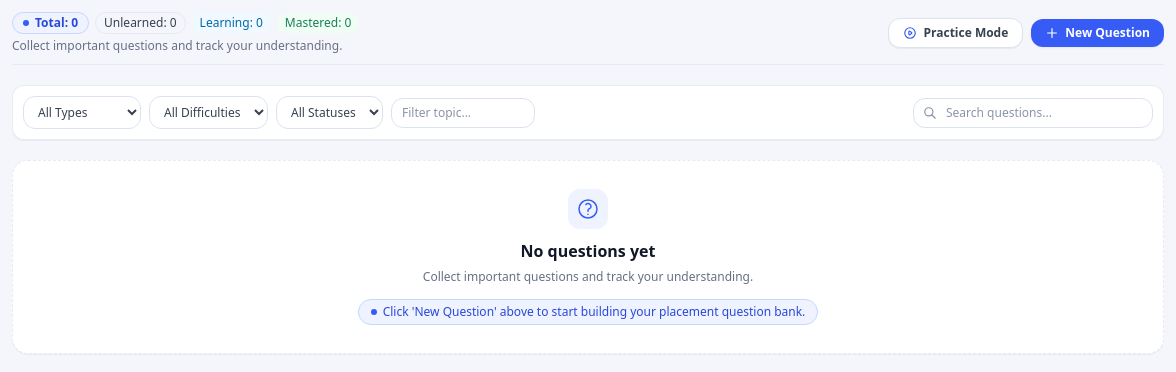
Question Bank Feature Frontend Test Suite › displays proper empty states for initial and filter-empty states
Expected: the heading "No questions yet" is shown, [520,240,656,262]
# Enter search
Type "dynamic programming" into the field labelled "Search questions" at coordinates (1033, 112), box [913,98,1153,128]
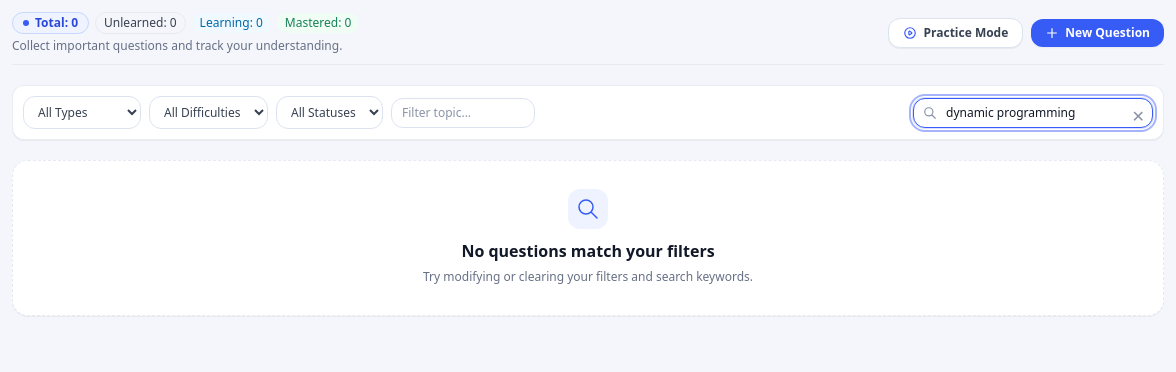
Expected: the heading "No questions match your filters" is shown, [461,240,715,262]
